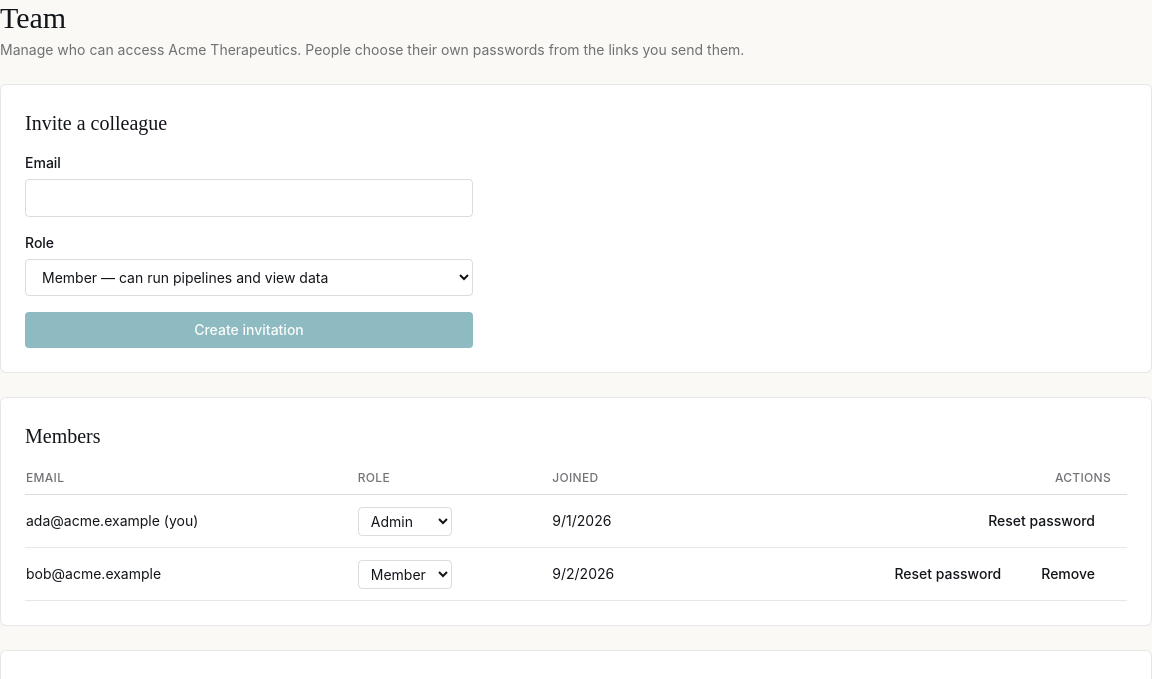
Test: Team › issues a password-reset link for a member
This screenshot has width=1152, height=679.
Click the button "Reset password" in the row of "bob@acme.example": {"x": 948, "y": 574} left=878, top=556, right=1017, bottom=592
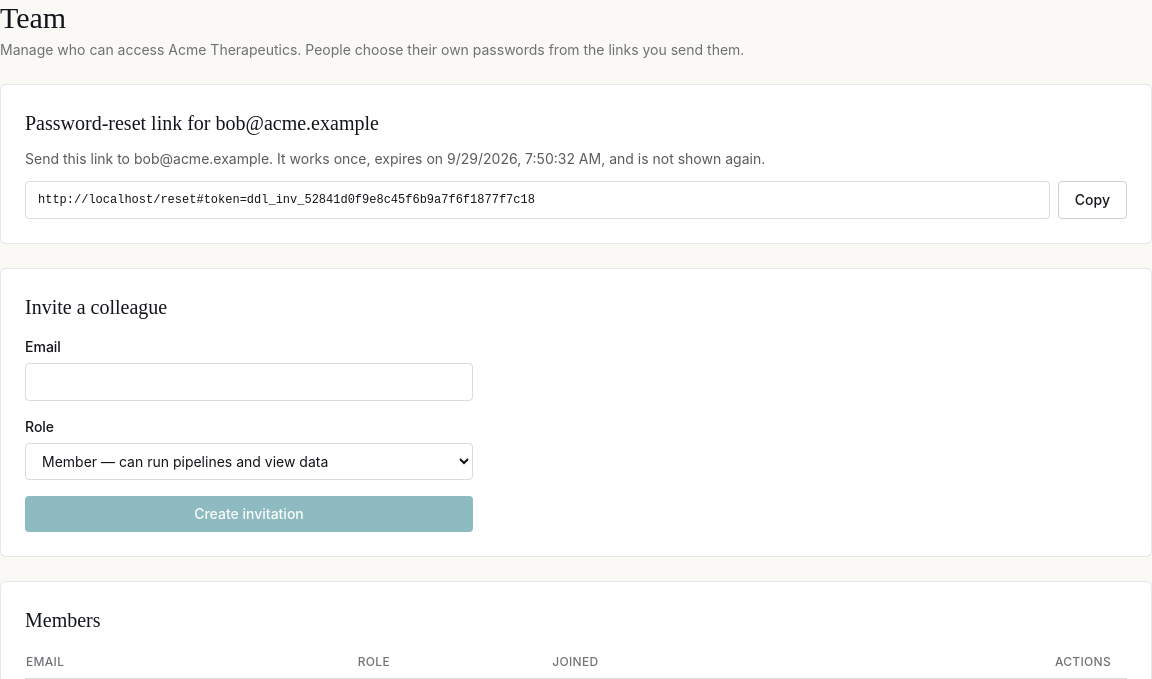
Result: the heading "Password-reset link for bob@acme.example" is shown at left=25, top=112, right=379, bottom=134
